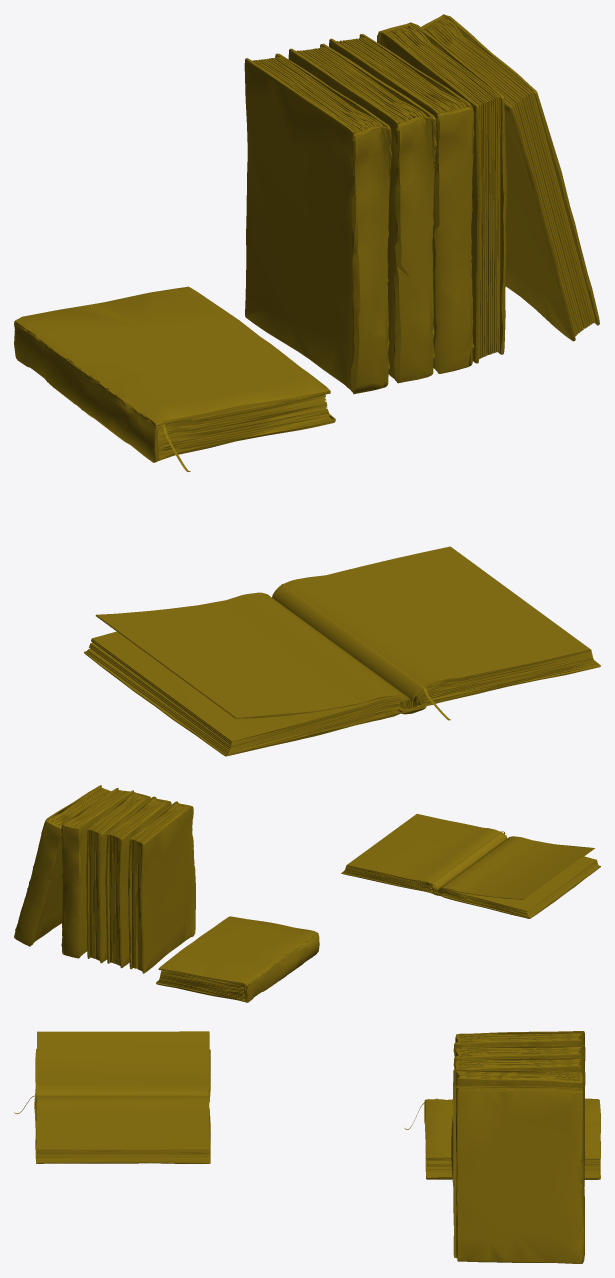
File: L3DV02G01_LITERATURE_BOOKS_MAGAZINES_2_MDL_LP_VR_OBJ-LW.obj
3 renders of one model, top to bottom at view 1: azimuth 30°, elevation 25°; view 2: azimuth 150°, elevation 25°; view 3: azimuth 270°, elevation 25°, orthographic. The views are drawn at different scales.
Parts seen in each view (by area): view 1: L3DV02G01_LITERATURE_BOOKS_2_MDL_LP03, L3DV02G01_LITERATURE_BOOKS_2_MDL_LP04, L3DV02G01_LITERATURE_BOOKS_2_MDL_LP02, L3DV02G01_LITERATURE_BOOKS_2_MDL_LP07, L3DV02G01_LITERATURE_BOOKS_2_MDL_LP05, L3DV02G01_LITERATURE_BOOKS_2_MDL_LP00, L3DV02G01_LITERATURE_BOOKS_2_MDL_LP06; view 2: L3DV02G01_LITERATURE_BOOKS_2_MDL_LP03, L3DV02G01_LITERATURE_BOOKS_2_MDL_LP04, L3DV02G01_LITERATURE_BOOKS_2_MDL_LP02, L3DV02G01_LITERATURE_BOOKS_2_MDL_LP07, L3DV02G01_LITERATURE_BOOKS_2_MDL_LP06, L3DV02G01_LITERATURE_BOOKS_2_MDL_LP05, L3DV02G01_LITERATURE_BOOKS_2_MDL_LP00; view 3: L3DV02G01_LITERATURE_BOOKS_2_MDL_LP03, L3DV02G01_LITERATURE_BOOKS_2_MDL_LP07, L3DV02G01_LITERATURE_BOOKS_2_MDL_LP02, L3DV02G01_LITERATURE_BOOKS_2_MDL_LP06, L3DV02G01_LITERATURE_BOOKS_2_MDL_LP04, L3DV02G01_LITERATURE_BOOKS_2_MDL_LP00, L3DV02G01_LITERATURE_BOOKS_2_MDL_LP05.
Boxes of the visible parts, x1,y1,x2,y2 form: L3DV02G01_LITERATURE_BOOKS_2_MDL_LP03: (84, 546, 600, 756); L3DV02G01_LITERATURE_BOOKS_2_MDL_LP04: (244, 53, 392, 394); L3DV02G01_LITERATURE_BOOKS_2_MDL_LP02: (14, 286, 335, 471); L3DV02G01_LITERATURE_BOOKS_2_MDL_LP07: (421, 14, 599, 341); L3DV02G01_LITERATURE_BOOKS_2_MDL_LP05: (288, 43, 436, 383); L3DV02G01_LITERATURE_BOOKS_2_MDL_LP00: (329, 34, 474, 373); L3DV02G01_LITERATURE_BOOKS_2_MDL_LP06: (377, 22, 506, 363); L3DV02G01_LITERATURE_BOOKS_2_MDL_LP03: (341, 814, 600, 918); L3DV02G01_LITERATURE_BOOKS_2_MDL_LP04: (128, 801, 195, 973); L3DV02G01_LITERATURE_BOOKS_2_MDL_LP02: (156, 916, 319, 1002); L3DV02G01_LITERATURE_BOOKS_2_MDL_LP07: (14, 785, 111, 946); L3DV02G01_LITERATURE_BOOKS_2_MDL_LP06: (61, 788, 133, 958); L3DV02G01_LITERATURE_BOOKS_2_MDL_LP05: (105, 796, 171, 968); L3DV02G01_LITERATURE_BOOKS_2_MDL_LP00: (86, 792, 150, 963); L3DV02G01_LITERATURE_BOOKS_2_MDL_LP03: (14, 1031, 210, 1163); L3DV02G01_LITERATURE_BOOKS_2_MDL_LP07: (453, 1085, 584, 1263); L3DV02G01_LITERATURE_BOOKS_2_MDL_LP02: (404, 1098, 600, 1179); L3DV02G01_LITERATURE_BOOKS_2_MDL_LP06: (453, 1069, 584, 1225); L3DV02G01_LITERATURE_BOOKS_2_MDL_LP04: (451, 1031, 585, 1187); L3DV02G01_LITERATURE_BOOKS_2_MDL_LP00: (453, 1057, 585, 1212); L3DV02G01_LITERATURE_BOOKS_2_MDL_LP05: (453, 1045, 584, 1178).
Bounding box in the file's own units: 856 × 294 × 971.
